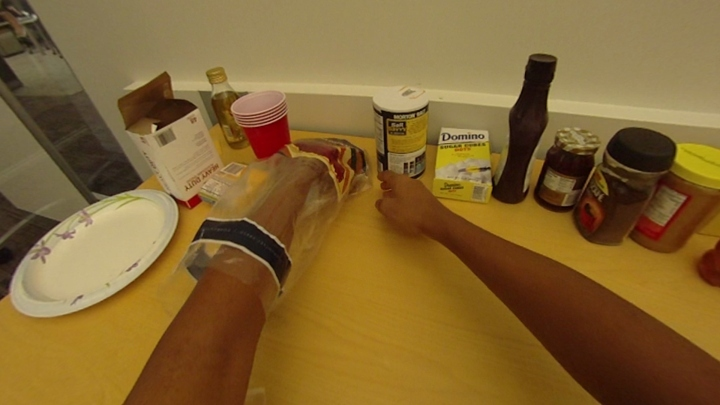hand: (374, 169, 438, 241)
